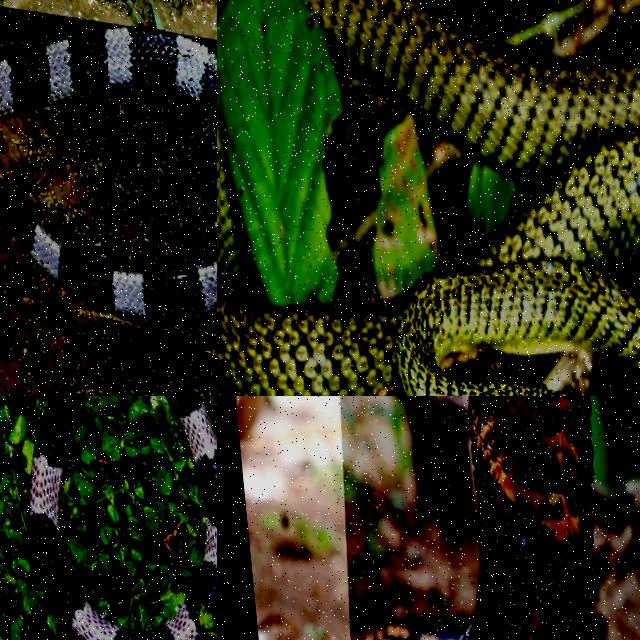Bungarus candidus: (29, 396, 216, 639), (0, 181, 216, 319)
Chrysopelea ornata: (217, 0, 639, 395)
Ophiophagus hannah: (366, 396, 593, 639)
snake: (217, 0, 639, 395), (366, 396, 593, 639), (29, 396, 216, 639), (0, 181, 216, 319)
